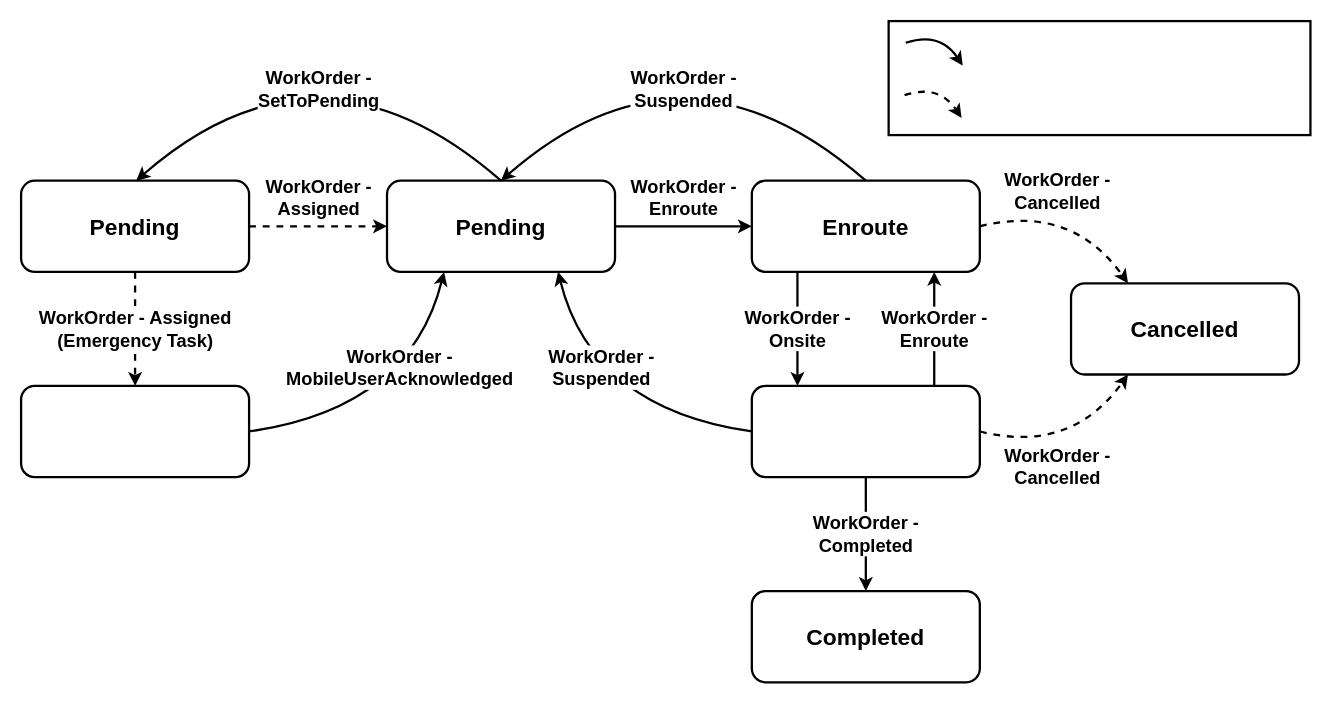
This 1330x702 diagram has some shape labels left out. Here are the shapes that lost their labels. From the top down, the centre of each, then its label:
At point (1099, 77): "Technician Initiated Operations 3PA or Dispatcher Initiated Operations".
At point (134, 431): "Unacknowledged".
At point (865, 431): "Onsite".
